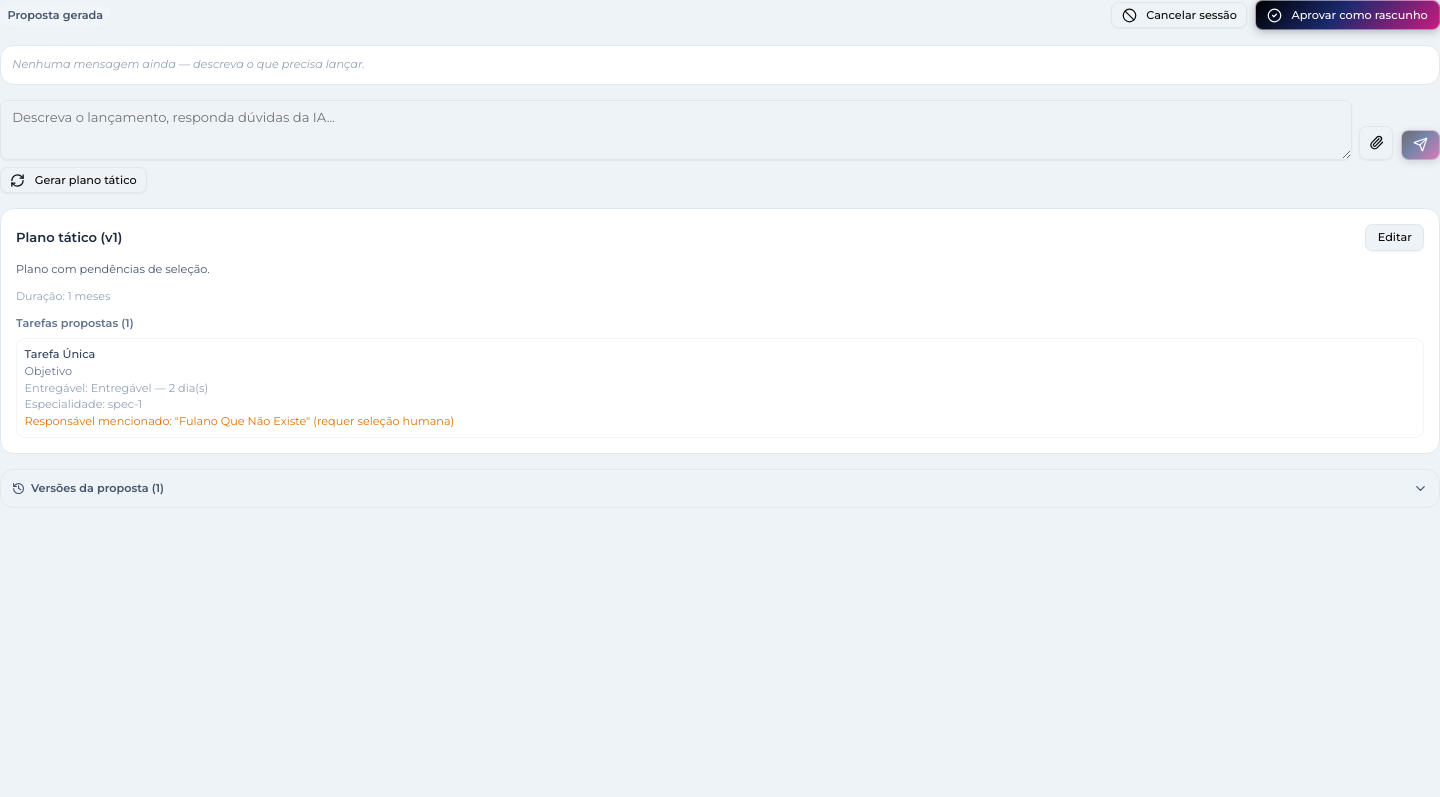
Scenario: LaunchSessionPanel › editor: especialidade sempre oferece as opções reais; responsável com seleção pendente não oferece 'ainda sem responsável'
Click the button "Editar": click(1395, 237) [1366, 224, 1424, 251]
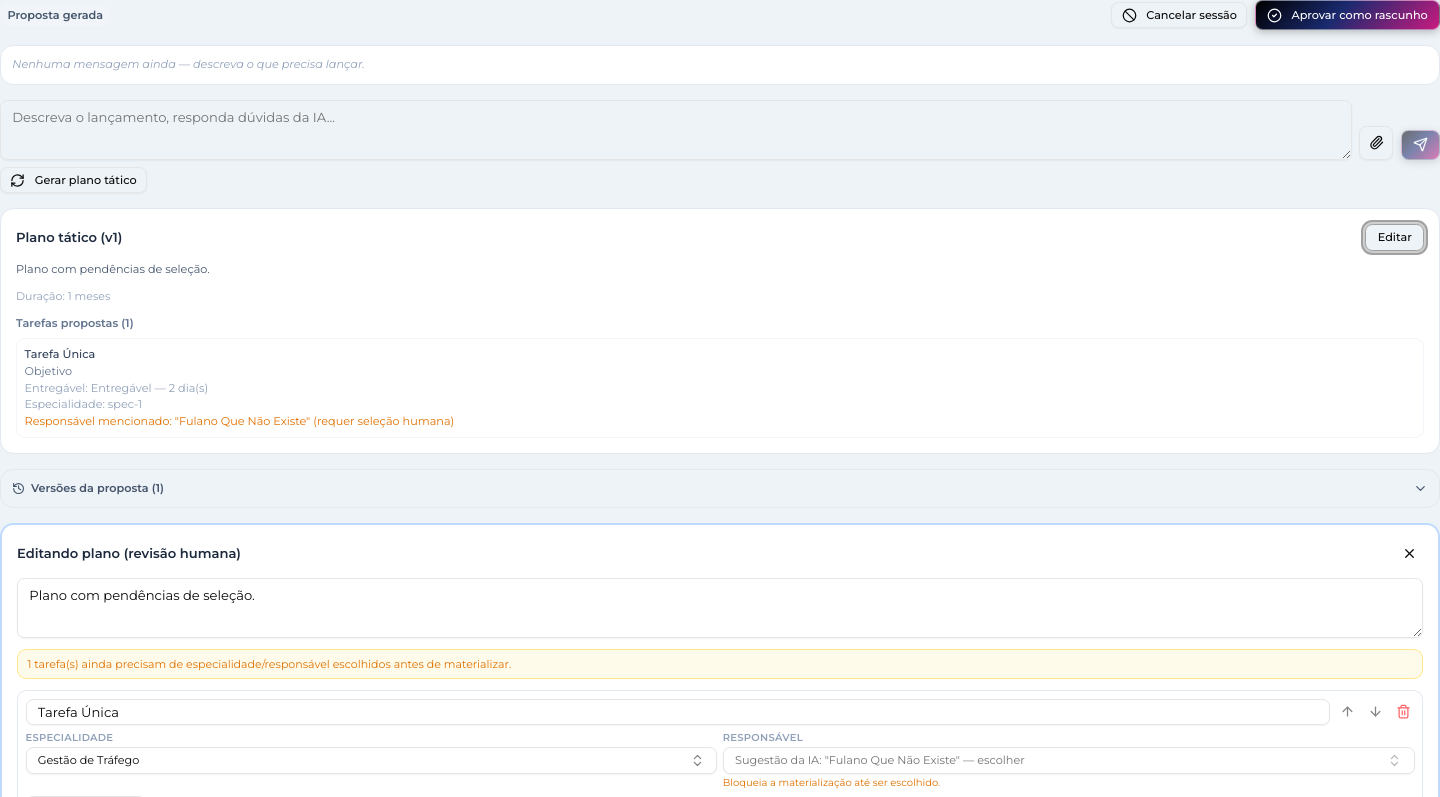
Now the heading "Editando plano (revisão humana)" is shown, box [17, 544, 241, 563]
Now the number of dropdowns is 2
// especialidade: já resolvida (spec-1), mas ainda pode ser trocada
Click the dropdown labelled "Gestão de Tráfego": click(89, 760) [26, 747, 717, 774]
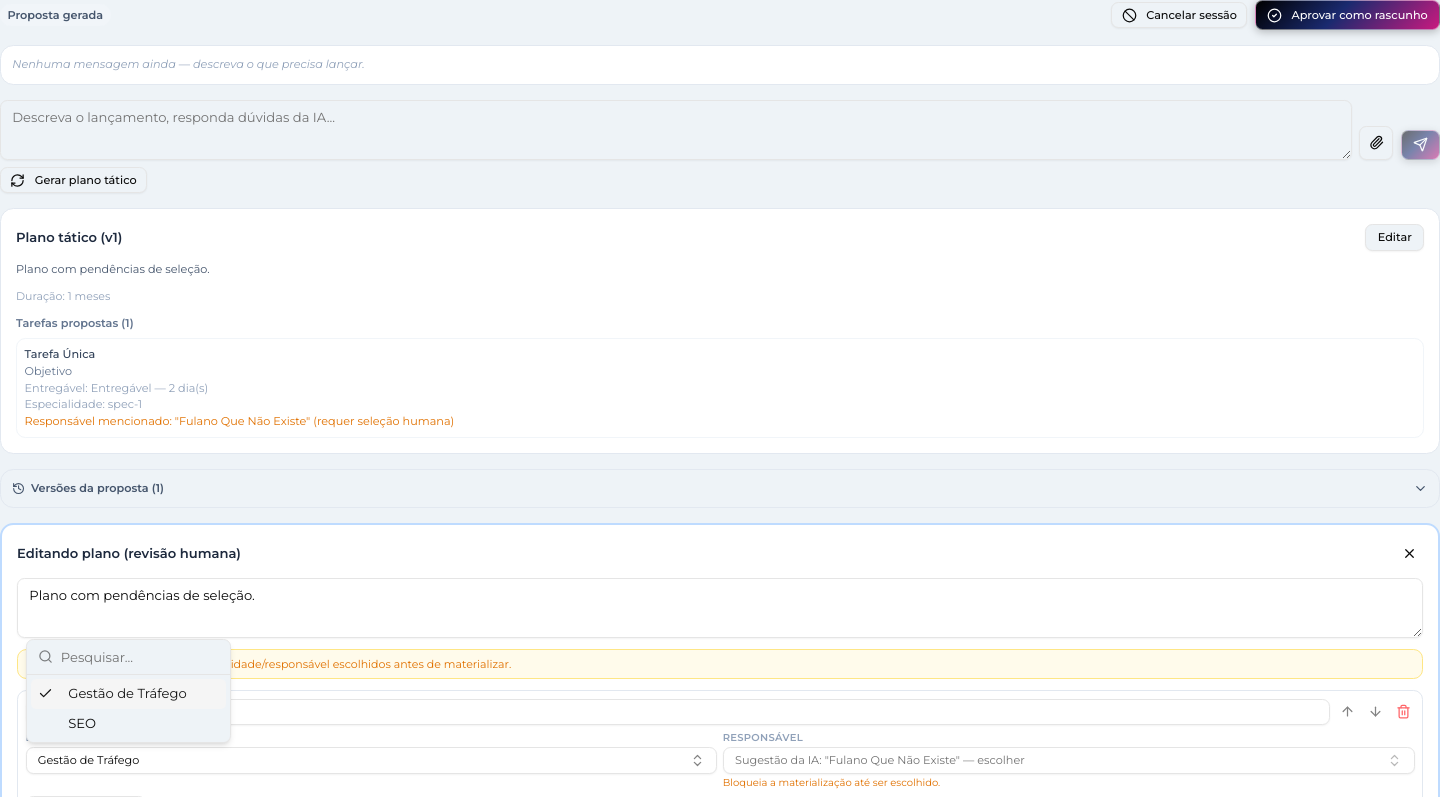
Now the text "Gestão de Tráfego" below "Editando plano (revisão humana)" is shown, box [38, 753, 139, 767]
Now the text "SEO" is shown, box [68, 714, 96, 733]
Press Escape
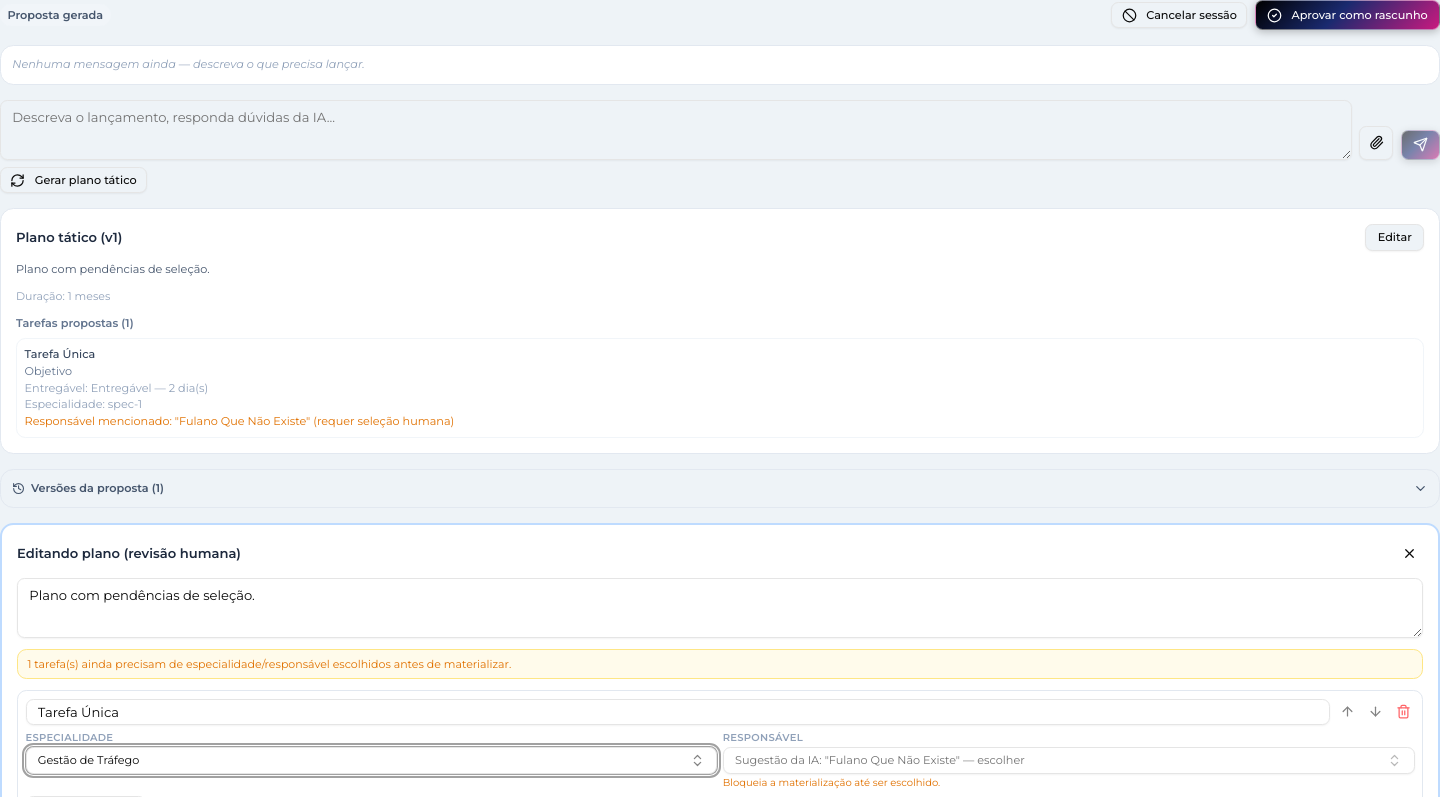
Click the dropdown labelled "Sugestão da IA: \"Fulano Que Não Existe\" — escolher": click(880, 760) [723, 747, 1414, 774]
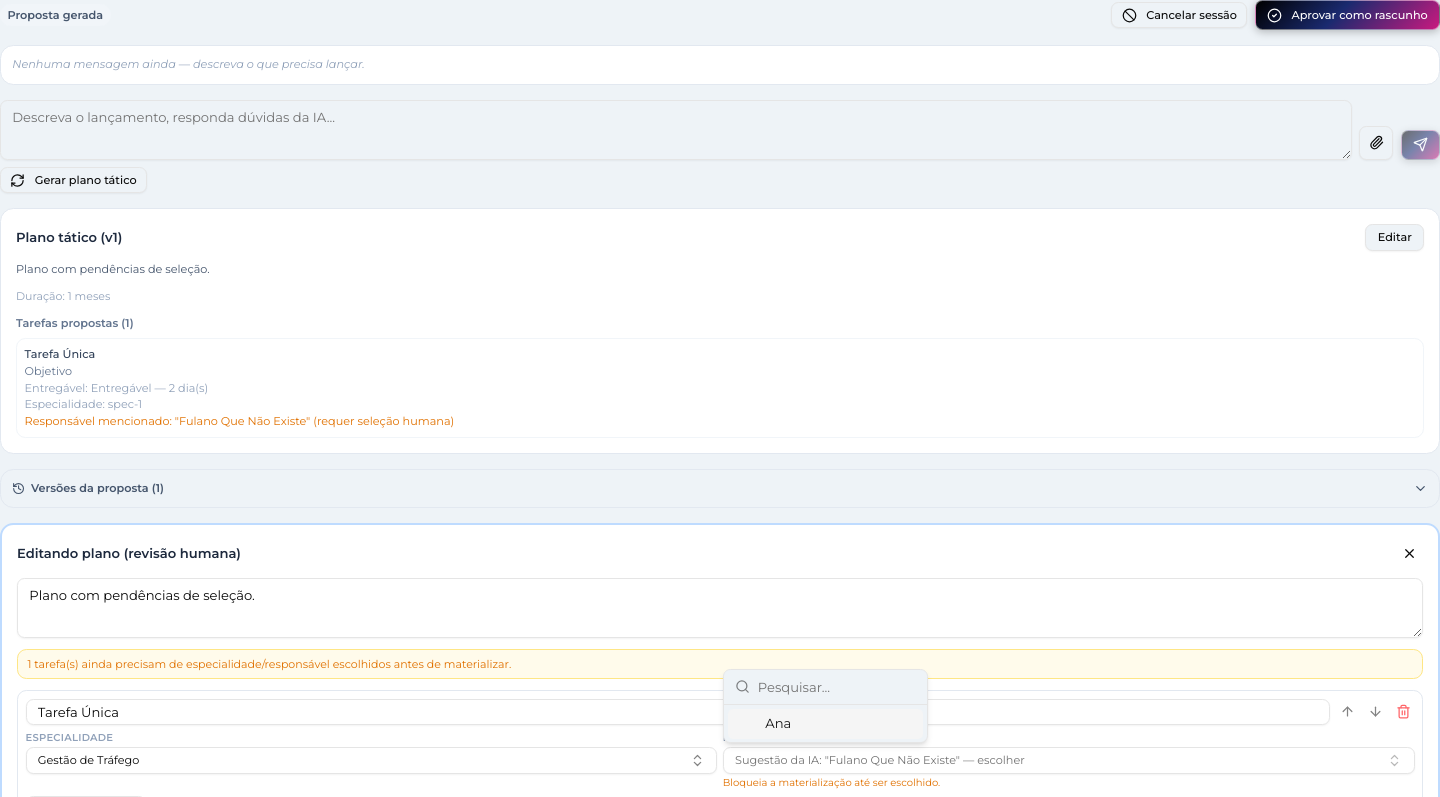
Now the text "Ana" is shown, box [765, 714, 791, 733]
